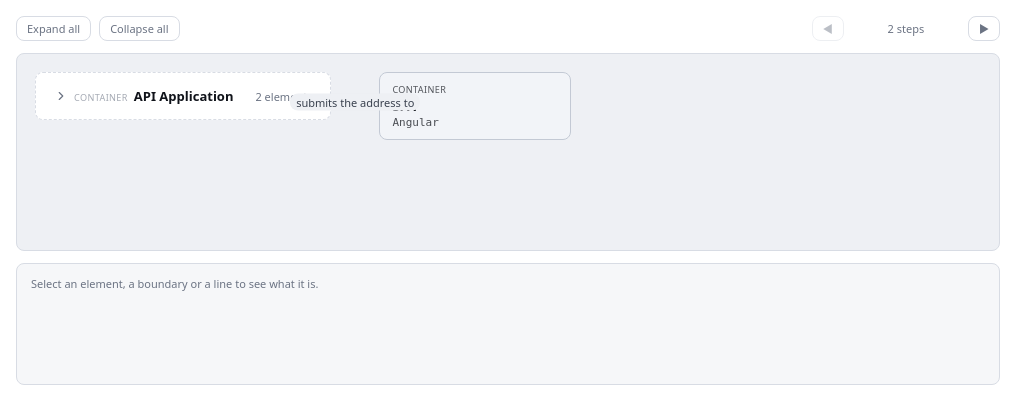
Test case: C4Chart — a dynamic run › stops at the end rather than running off it
The image size is (1017, 402).
Click the button named "Next step" at x=984, y=28, box [968,16,1000,41]
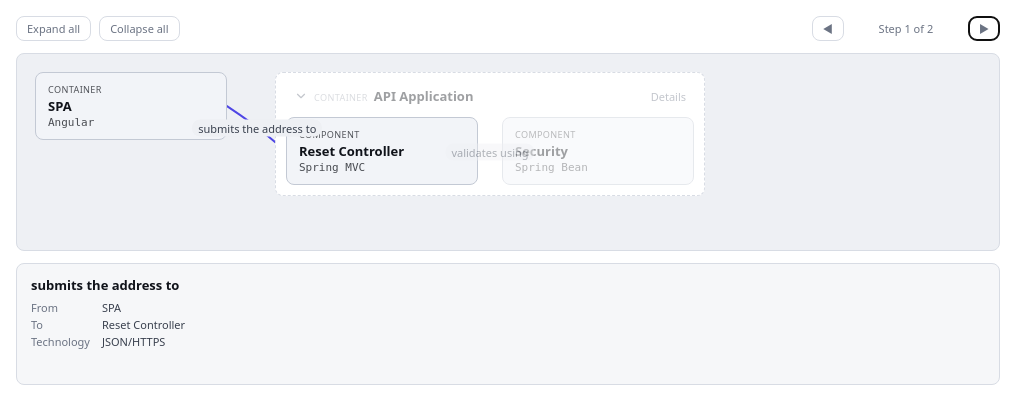
Click the button named "Next step" at x=984, y=28, box [968,16,1000,41]
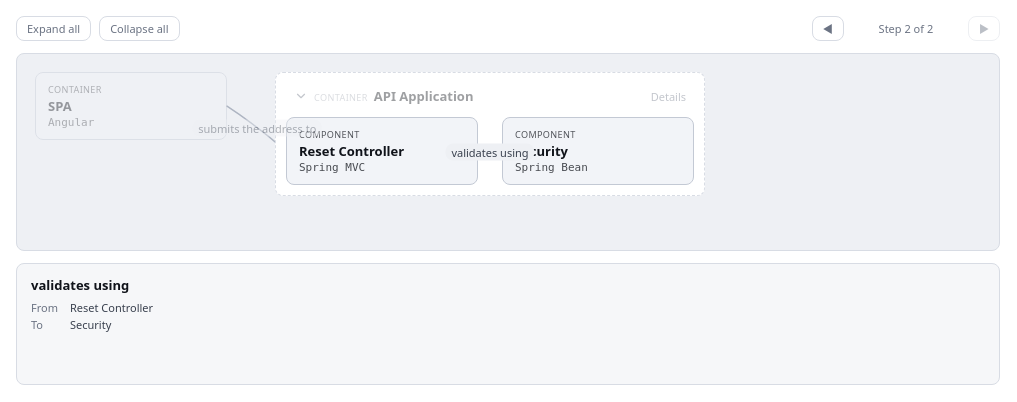
Expected: the button named "Next step" is disabled, [968,16,1000,41]
Expected: the text "Step 2 of 2" is shown, [879,21,933,36]
